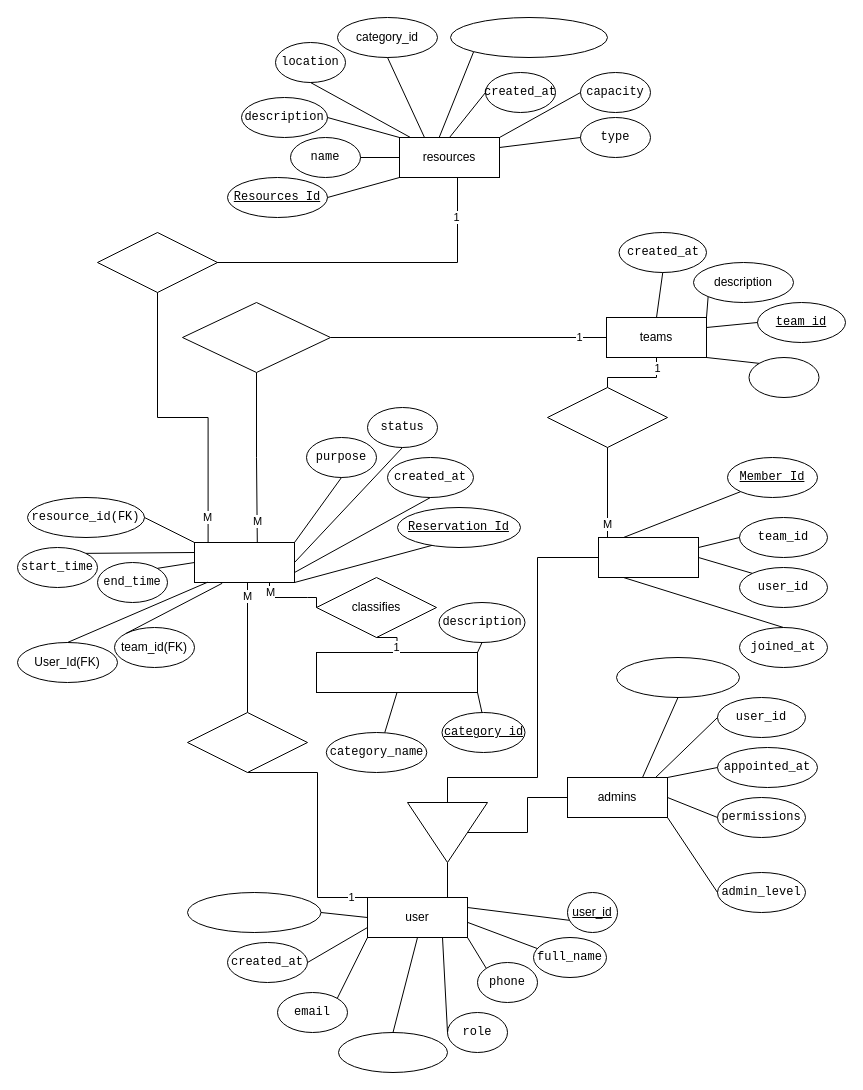
This 863x1090 diagram has some shape labels left out. The centre of each missing label's shape, as x and y in pixels:
account_status: the point at 253,912
Admin_Id: the point at 678,677
availability_status: the point at 529,37
contains: the point at 607,417
creates: the point at 247,742
is_associated_with: the point at 256,337
is_reserved_in: the point at 157,262
ISA: the point at 447,832
password_hash: the point at 393,1052
reservations: the point at 244,562
resource_categories: the point at 397,672
team_members: the point at 648,557
team_name: the point at 783,377
